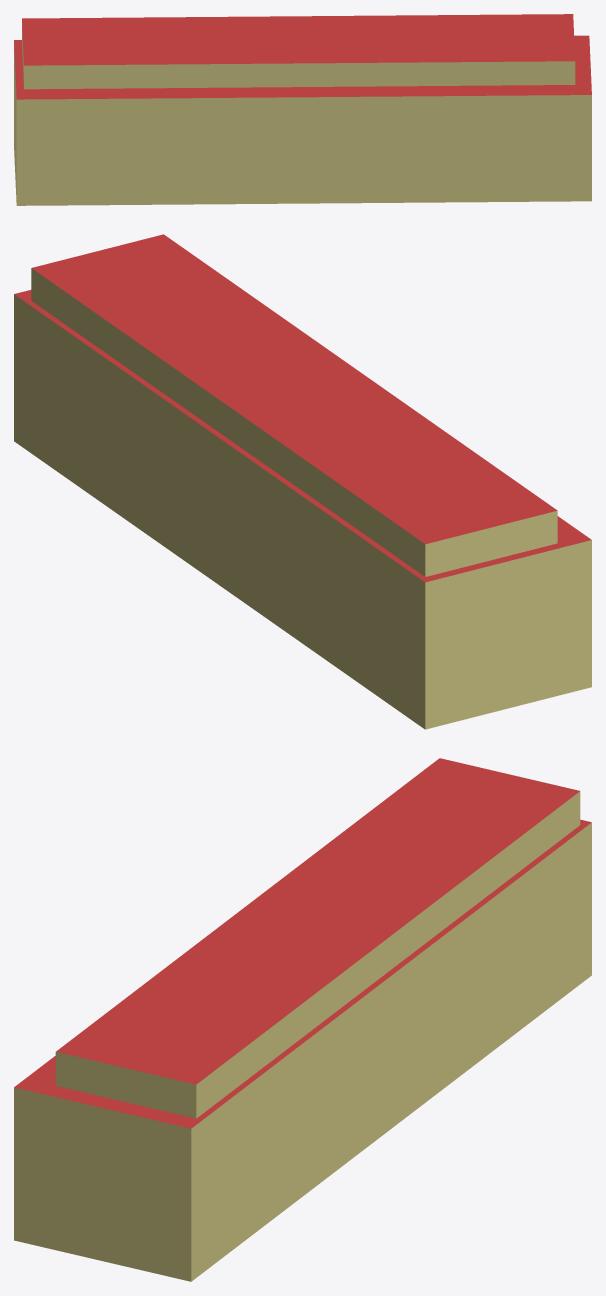
3 renders of one model, top to bottom at view 1: azimuth 30°, elevation 25°; view 2: azimuth 150°, elevation 25°; view 3: azimuth 270°, elevation 25°, orthographic. The views are drawn at different scales.
Visible parts, largest first — view 1: group_6, group_4, group_5, group_3; view 2: group_6, group_4, group_5, group_3; view 3: group_6, group_4, group_5, group_3.
Boxes of the visible parts, x1=… form: group_6: x1=14, y1=44, x2=591, y2=205; group_4: x1=22, y1=14, x2=575, y2=65; group_5: x1=22, y1=25, x2=575, y2=89; group_3: x1=14, y1=35, x2=591, y2=99; group_6: x1=14, y1=294, x2=591, y2=729; group_4: x1=32, y1=234, x2=557, y2=544; group_5: x1=31, y1=268, x2=557, y2=576; group_3: x1=14, y1=290, x2=591, y2=582; group_6: x1=14, y1=822, x2=591, y2=1281; group_4: x1=56, y1=758, x2=579, y2=1084; group_5: x1=55, y1=791, x2=580, y2=1118; group_3: x1=14, y1=819, x2=591, y2=1128.
Size of the model in its own units: 60.17 by 42.25 by 15.1.
